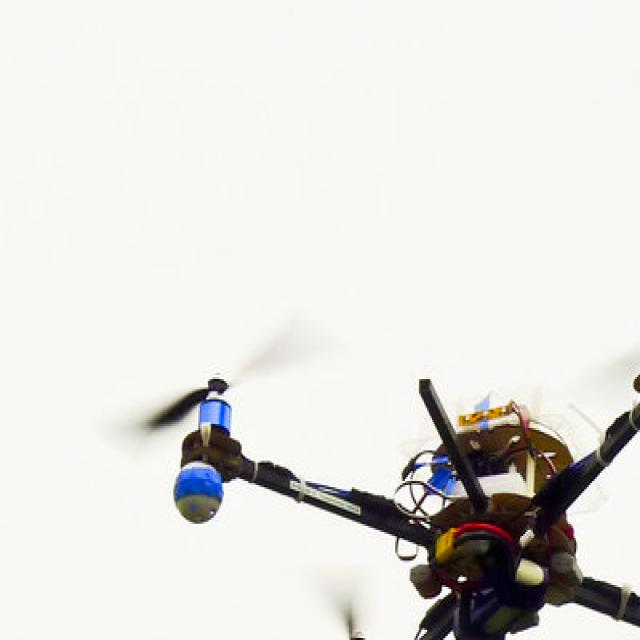drone: (117, 257, 640, 640)
